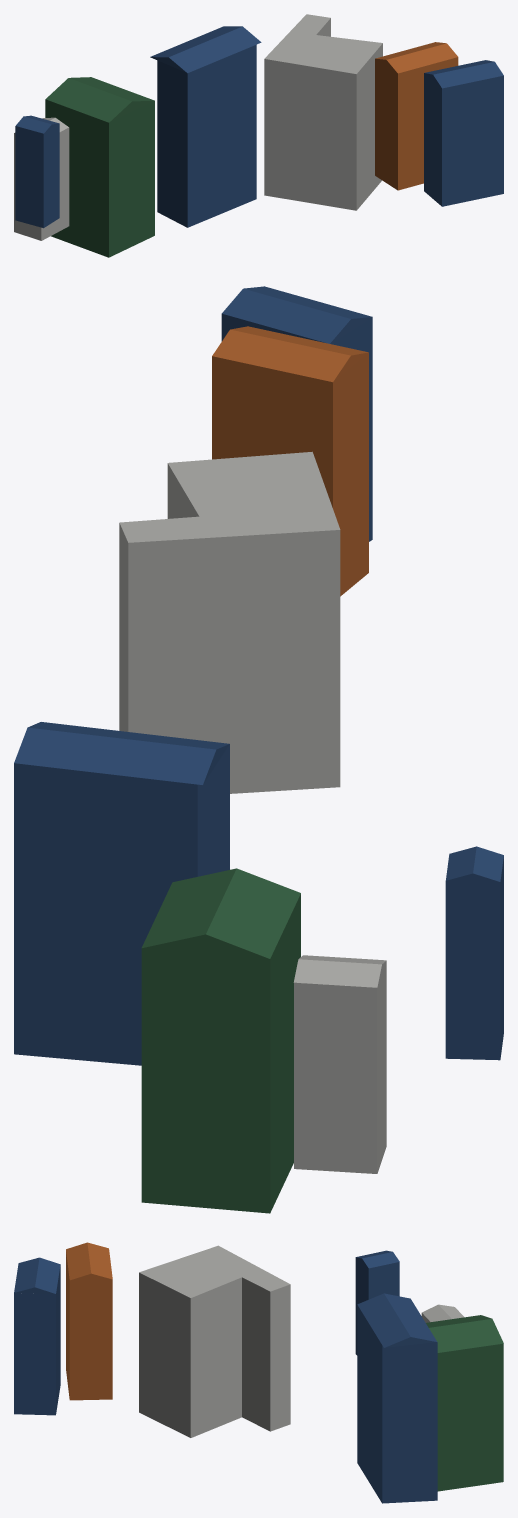
Rendered from near-15-27371-14867.a6475e15.glb.
3 renders of one model, top to bottom at view 1: azimuth 30°, elevation 25°; view 2: azimuth 150°, elevation 25°; view 3: azimuth 270°, elevation 25°, orthographic. The views are drawn at different scales.
Bounding box in the file's own units: 47.13 × 40.59 × 63.12.
